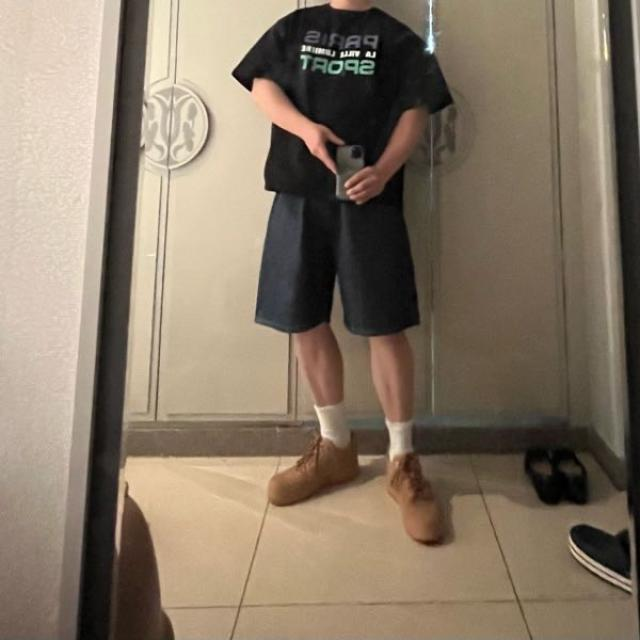shortpants: (253, 183, 419, 341)
shortsleeve: (232, 6, 452, 200)
